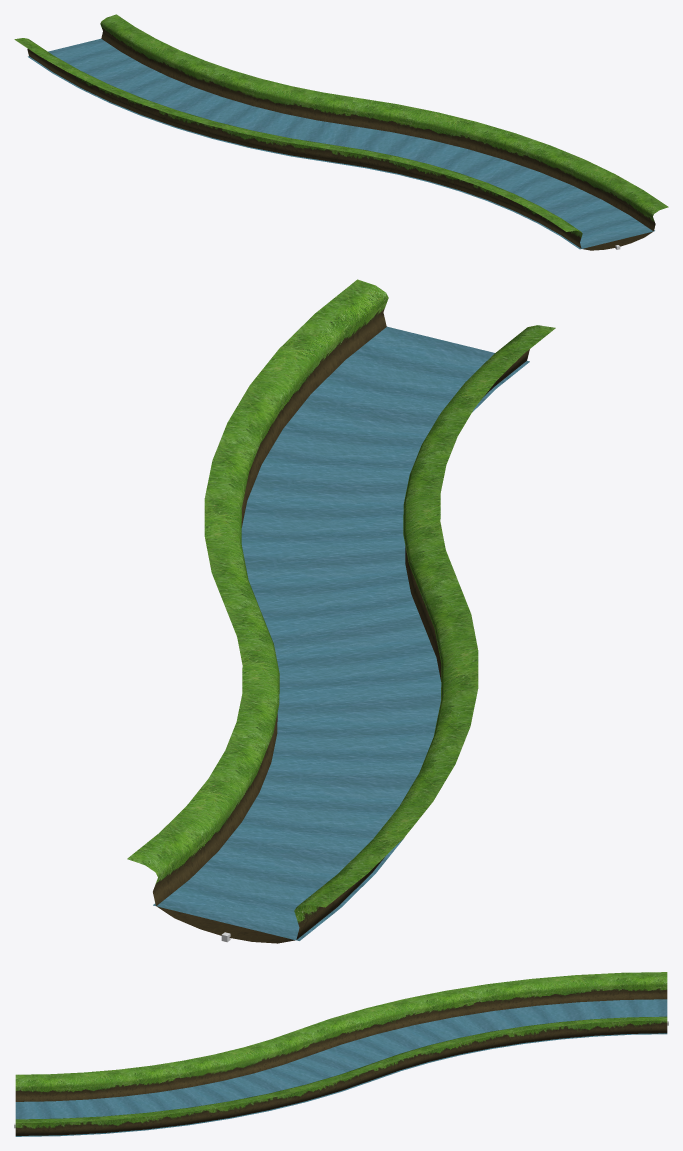
The model's file is roadShift.left3.fbx.
The picture shows the model from 3 angles, top to bottom: view 1: azimuth 30°, elevation 25°; view 2: azimuth 150°, elevation 25°; view 3: azimuth 270°, elevation 25°; orthographic projection. The views are drawn at different scales.
Parts seen in each view (by area): view 1: MESH roadShift.left3; view 2: MESH roadShift.left3; view 3: MESH roadShift.left3.
Part boxes in pixels (box(x1,y1,x2,y2)): MESH roadShift.left3: box(14, 14, 668, 250); MESH roadShift.left3: box(127, 279, 555, 943); MESH roadShift.left3: box(15, 972, 667, 1136).
Size of what is drawn, in the model's own units: 5271 by 463 by 9650.
